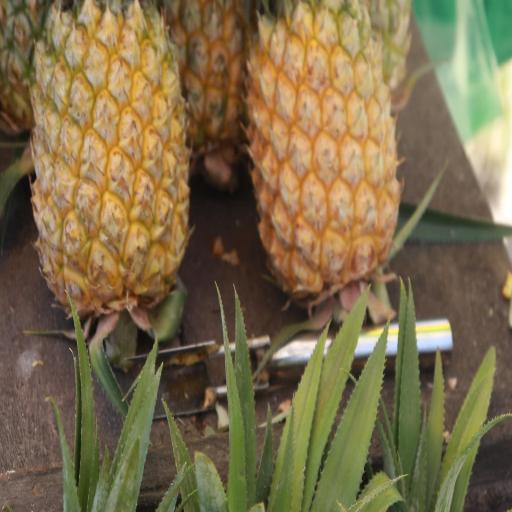Pineapple - v8 v1: (26, 0, 193, 358), (242, 0, 406, 308)
